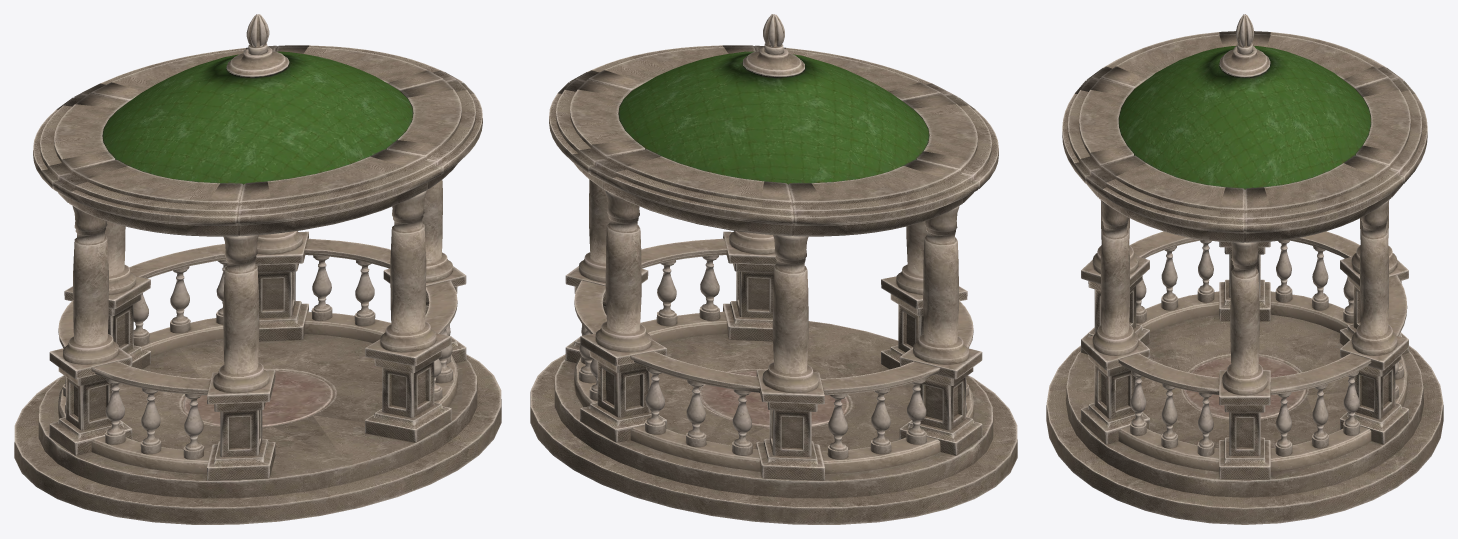
File: rotunda.glb
3 views of the same model, side by side, from view 1: azimuth 30°, elevation 25°; view 2: azimuth 150°, elevation 25°; view 3: azimuth 270°, elevation 25° (orthographic). The views are drawn at different scales.
Visible parts, largest first — view 1: rotunda; view 2: rotunda; view 3: rotunda.
Part boxes in pixels (x1,y1,x2,y2): rotunda: (14, 14, 501, 524); rotunda: (530, 14, 1017, 524); rotunda: (1046, 14, 1443, 524).
Bounding box in the file's own units: 20 × 18 × 16.
1 material, 1 textured.
